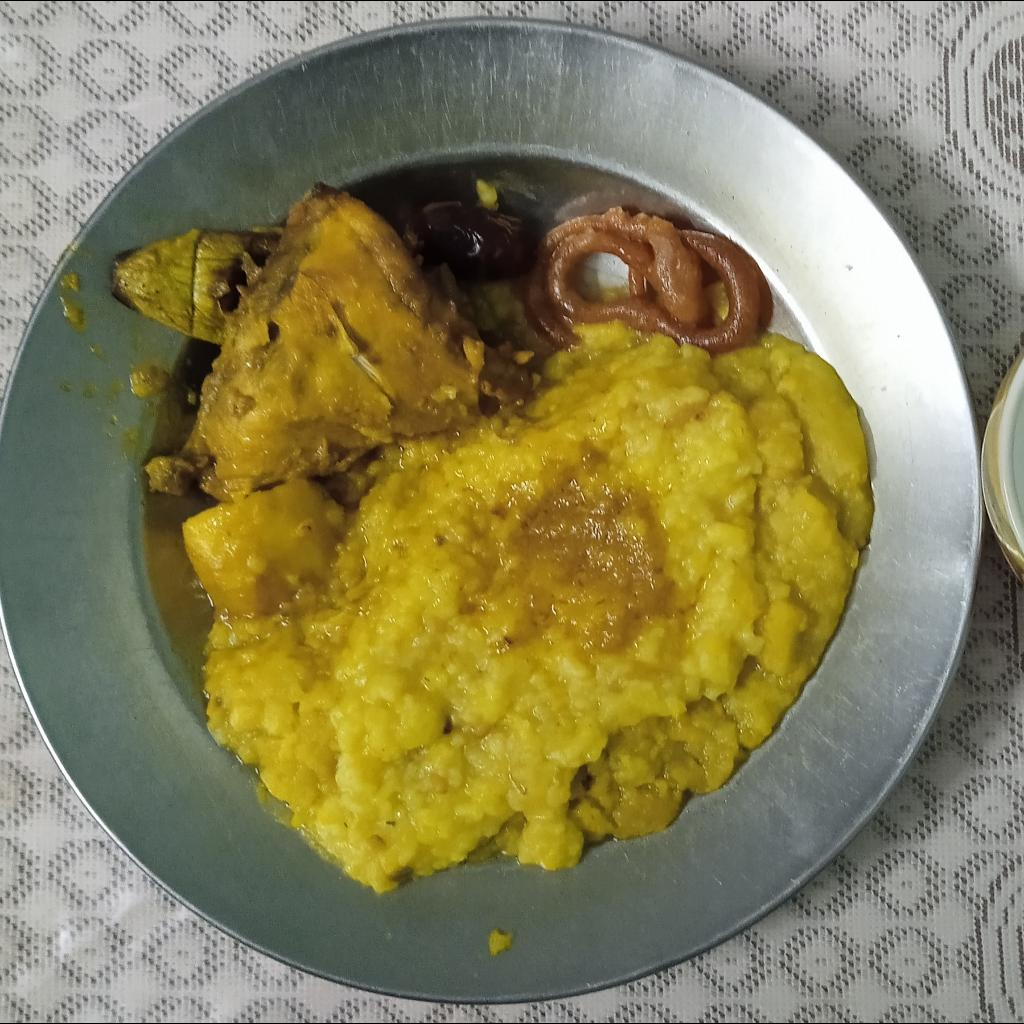chicken: (145, 182, 531, 501)
dates: (403, 201, 528, 278)
jilapi: (524, 206, 773, 352)
khichuri: (203, 318, 872, 897)
potato: (183, 476, 344, 617)
potol: (112, 222, 287, 345)
